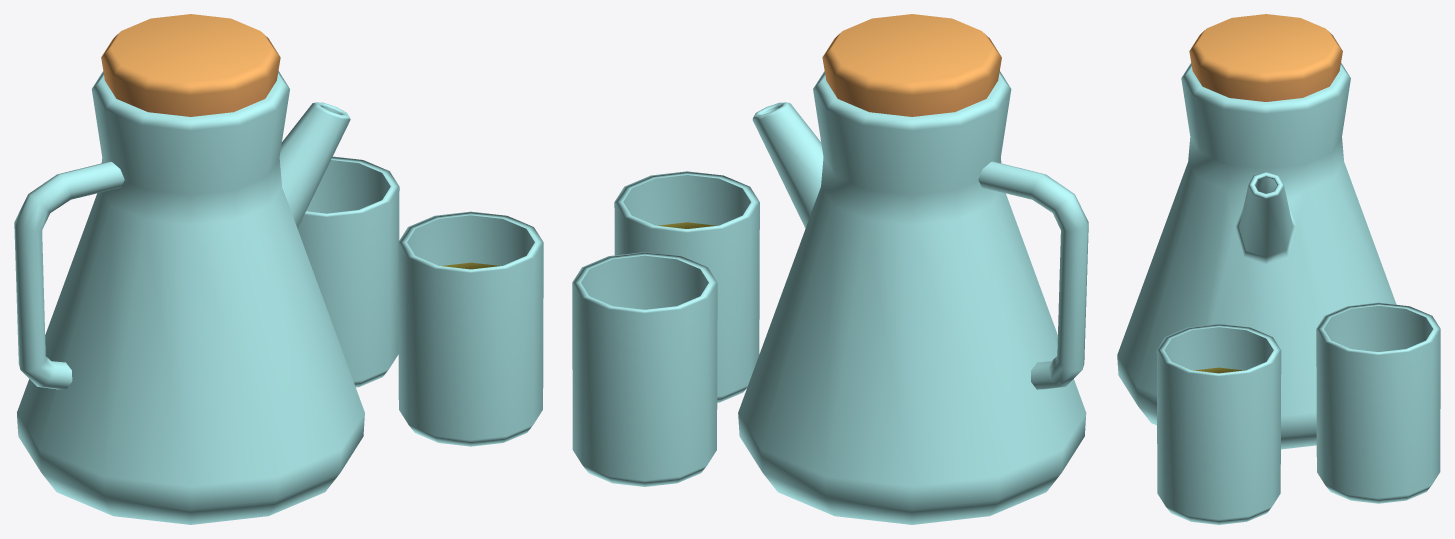
File: Homestead_nm_14.fbx
The picture shows the model from 3 angles, left to right: view 1: azimuth 30°, elevation 25°; view 2: azimuth 150°, elevation 25°; view 3: azimuth 270°, elevation 25°; orthographic projection. The views are drawn at different scales.
Parts seen in each view (by area): view 1: Homestead_nm_14; view 2: Homestead_nm_14; view 3: Homestead_nm_14.
Part boxes in pixels (left/top/right/bottom): Homestead_nm_14: left=14, top=14, right=543, bottom=524; Homestead_nm_14: left=572, top=14, right=1088, bottom=524; Homestead_nm_14: left=1117, top=14, right=1440, bottom=524.
Bounding box in the file's own units: 77.01 × 61.91 × 51.43.
